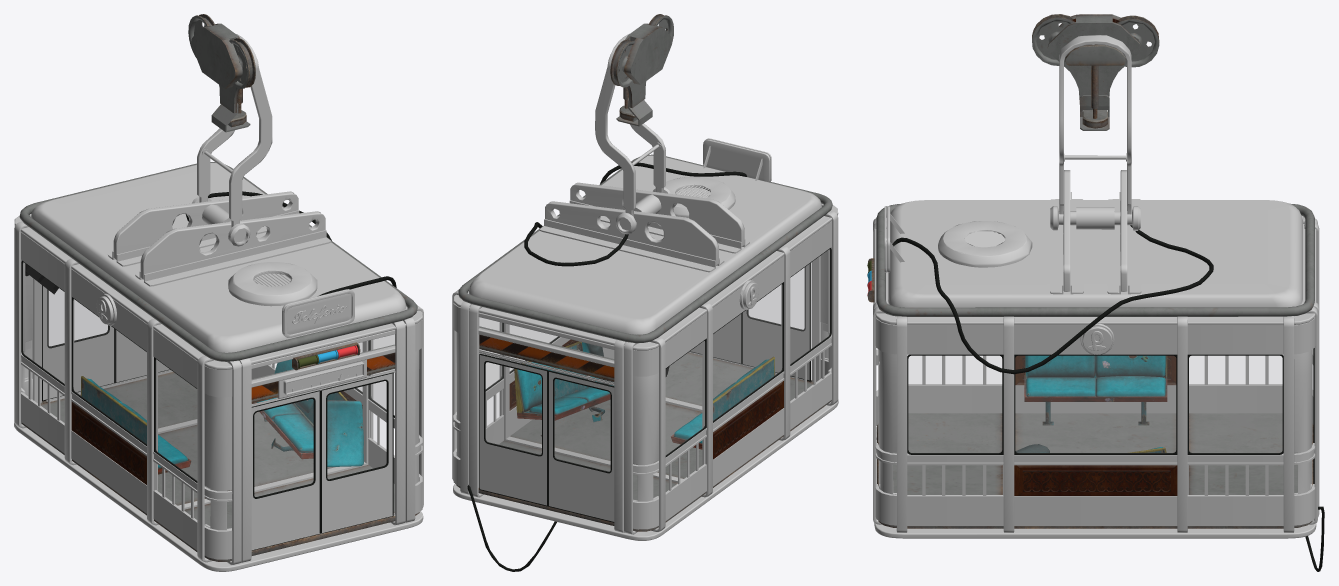
3 views of the same model, side by side, from view 1: azimuth 30°, elevation 25°; view 2: azimuth 150°, elevation 25°; view 3: azimuth 270°, elevation 25° (orthographic). The views are drawn at different scales.
Parts seen in each view (by area): view 1: SM_Bench_Cafeteria_B.mo, SM_TelefericDoorNew_A.mo.001, SM_TelefericDoorNew_A.mo, SM_TelefericDoorNew_A.mo.002, SM_TelefericDoorNew_A.mo.003; view 2: SM_Bench_Cafeteria_B.mo, SM_TelefericDoorNew_A.mo.003, SM_TelefericDoorNew_A.mo.002, SM_TelefericDoorNew_A.mo, SM_TelefericDoorNew_A.mo.001; view 3: SM_Bench_Cafeteria_B.mo.
Boxes of the visible parts, left/top/right/bottom form: SM_Bench_Cafeteria_B.mo: left=14, top=14, right=423, bottom=571; SM_TelefericDoorNew_A.mo.001: left=320, top=372, right=393, bottom=533; SM_TelefericDoorNew_A.mo: left=251, top=390, right=320, bottom=550; SM_TelefericDoorNew_A.mo.002: left=42, top=285, right=114, bottom=401; SM_TelefericDoorNew_A.mo.003: left=115, top=329, right=170, bottom=383; SM_Bench_Cafeteria_B.mo: left=452, top=14, right=838, bottom=571; SM_TelefericDoorNew_A.mo.003: left=479, top=353, right=548, bottom=506; SM_TelefericDoorNew_A.mo.002: left=548, top=370, right=614, bottom=522; SM_TelefericDoorNew_A.mo: left=742, top=263, right=810, bottom=381; SM_TelefericDoorNew_A.mo.001: left=689, top=313, right=741, bottom=364; SM_Bench_Cafeteria_B.mo: left=867, top=14, right=1324, bottom=571.
Size of the model in its own units: 3.18 by 6.7 by 5.17.
